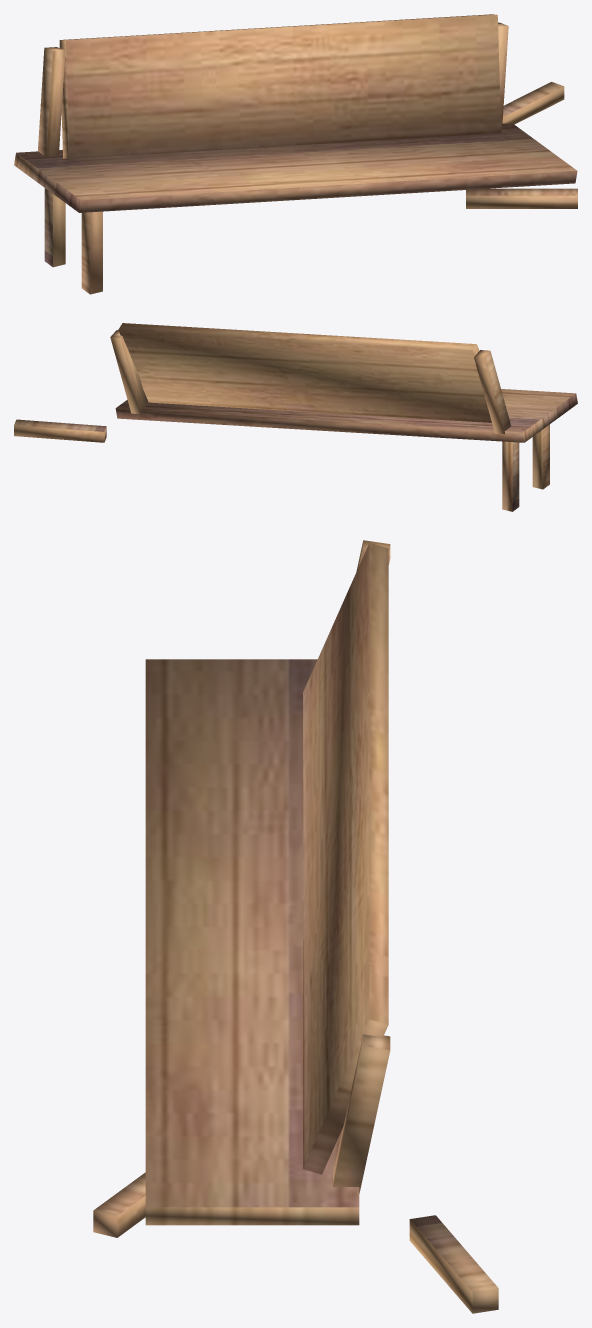
The model's file is broken_bench.obj.
3 views of the same model, one above another, from view 1: azimuth 30°, elevation 25°; view 2: azimuth 150°, elevation 25°; view 3: azimuth 270°, elevation 25° (orthographic). The views are drawn at different scales.
Parts seen in each view (by area): view 1: Box008, Box005, Box006, Box004, Box003, Box001, Box002, Box007; view 2: Box008, Box005, Box002, Box006, Box007, Box001, Box003; view 3: Box005, Box008, Box007, Box002, Box004.
Part boxes in pixels (bbox=[...]): Box008: bbox=[59, 14, 501, 158]; Box005: bbox=[14, 123, 577, 212]; Box006: bbox=[38, 47, 65, 157]; Box004: bbox=[466, 188, 577, 208]; Box003: bbox=[81, 211, 102, 294]; Box001: bbox=[44, 188, 65, 267]; Box002: bbox=[502, 82, 564, 124]; Box007: bbox=[498, 22, 508, 129]; Box008: bbox=[118, 323, 491, 422]; Box005: bbox=[115, 389, 577, 442]; Box002: bbox=[14, 419, 106, 442]; Box006: bbox=[474, 350, 511, 434]; Box007: bbox=[110, 330, 147, 414]; Box001: bbox=[502, 441, 519, 511]; Box003: bbox=[532, 424, 549, 489]; Box005: bbox=[145, 659, 359, 1225]; Box008: bbox=[303, 542, 388, 1174]; Box007: bbox=[333, 1034, 390, 1193]; Box002: bbox=[409, 1215, 498, 1313]; Box004: bbox=[93, 1172, 145, 1237].
Size of the model in its own units: 45.44 by 15.7 by 16.61.
